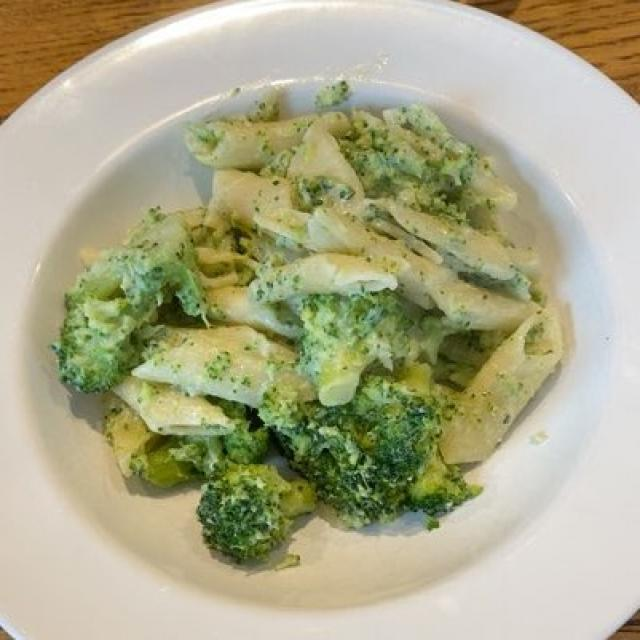broccoli: (48, 121, 465, 578)
pasta-penne: (101, 99, 560, 452)
